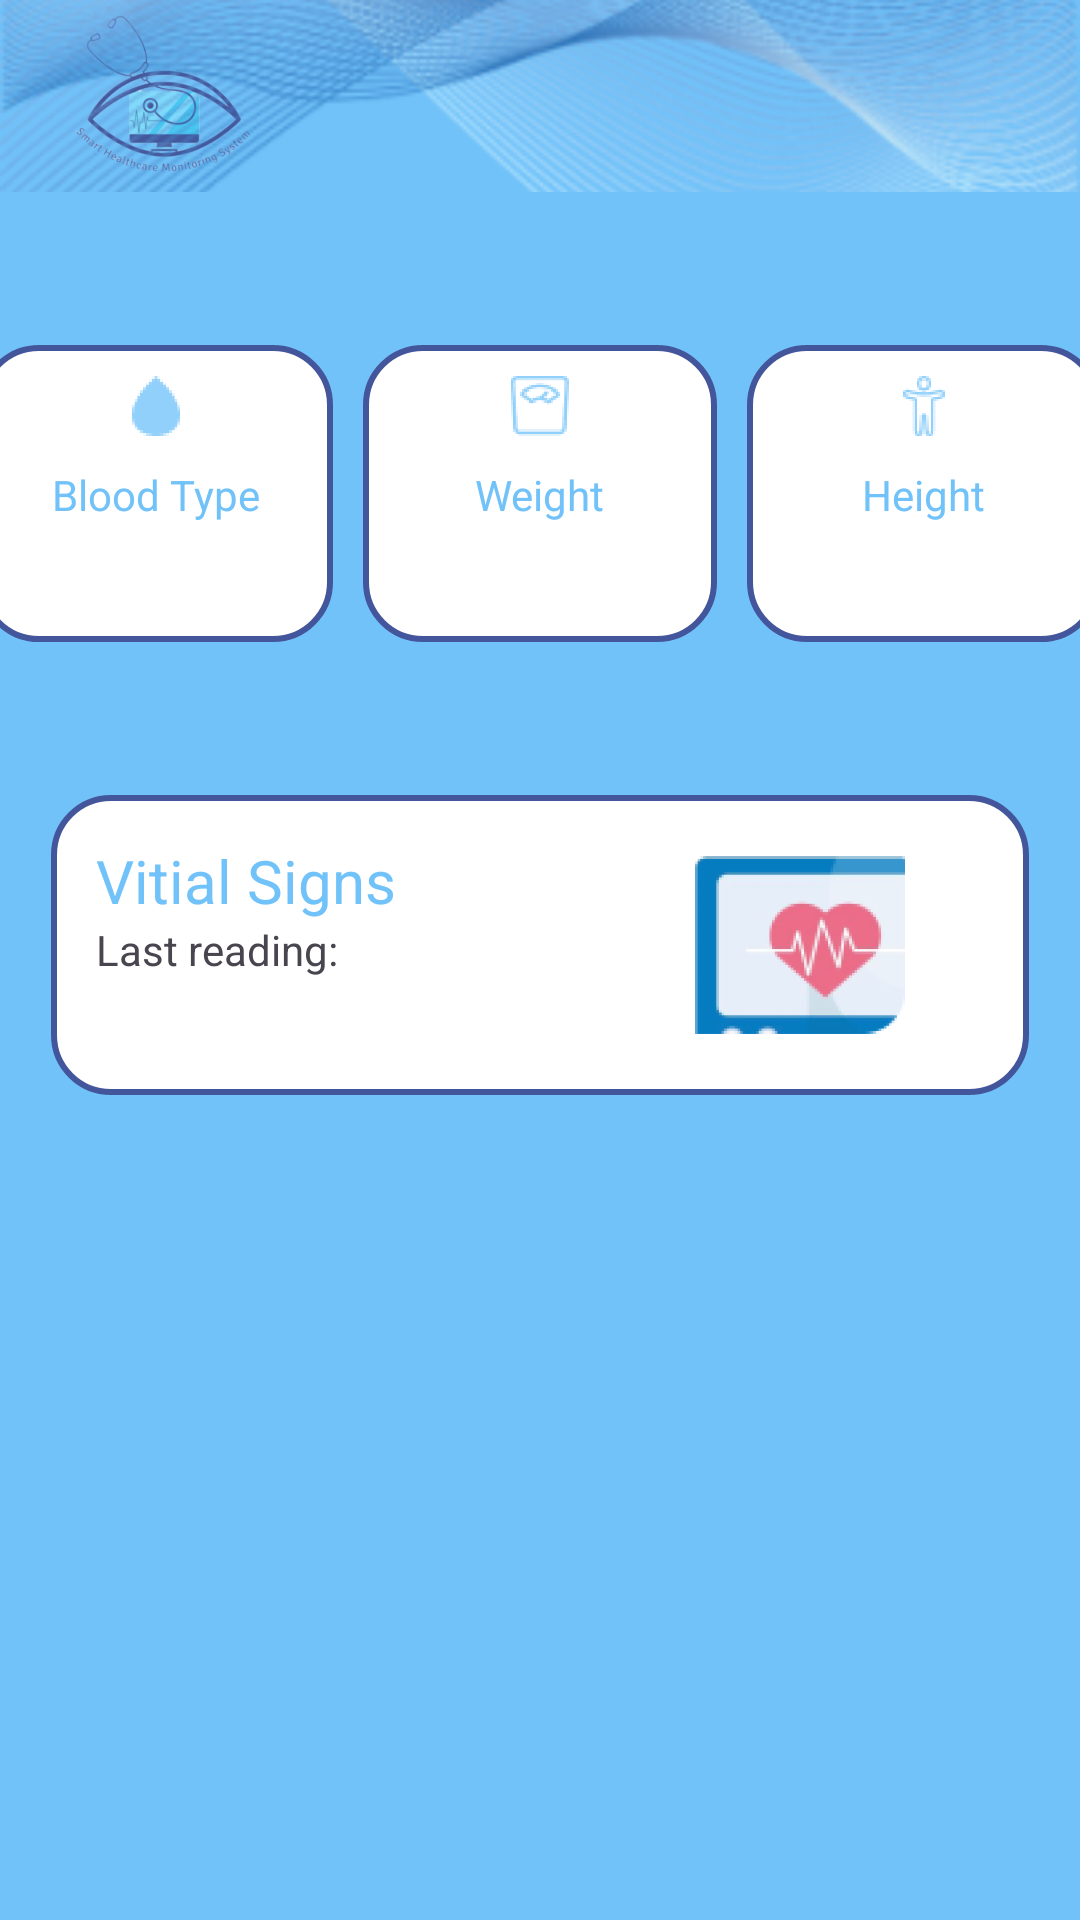

Screen size 1080w x 1920h. Icon name, then its box in pixels as (x1, y1, x2, y2):
signs: (695, 856, 905, 1034)
